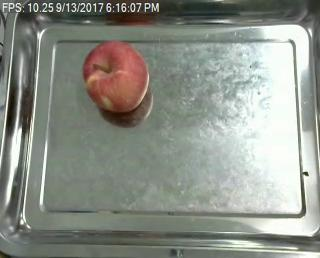apple: (83, 40, 149, 111)
